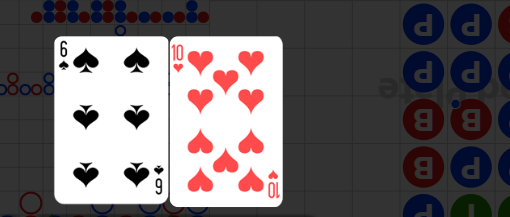10H: (266, 168, 280, 199)
6S: (58, 40, 71, 73)
